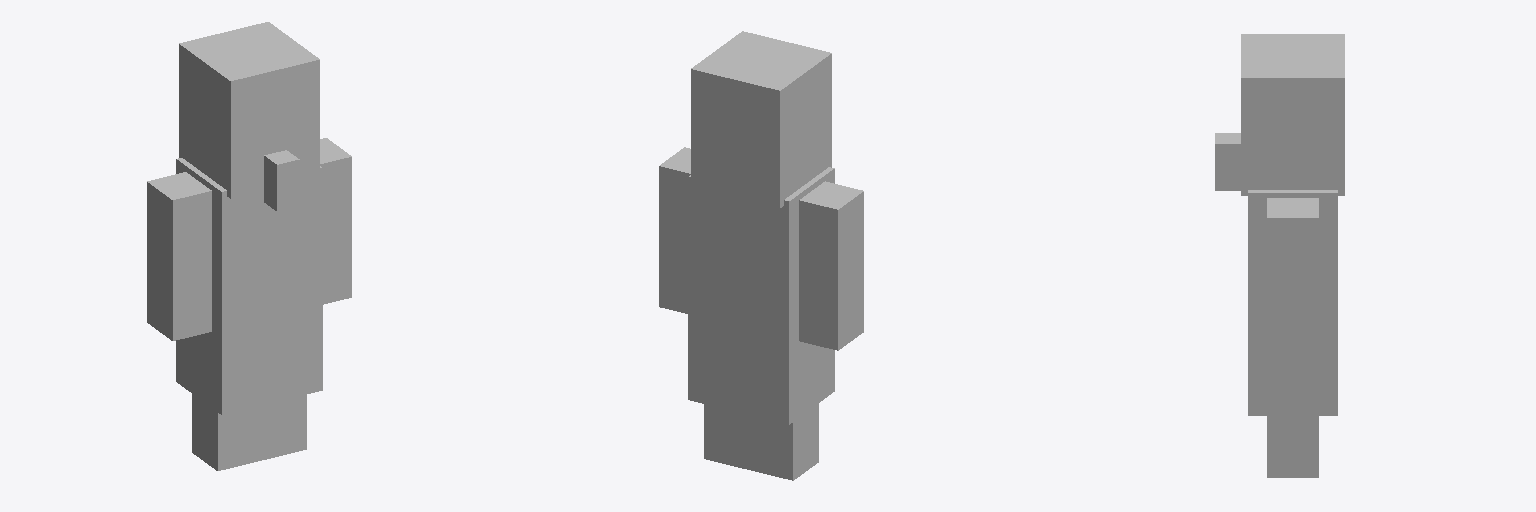
The model's file is pillager.geo.obj.
3 views of the same model, side by side, from view 1: azimuth 30°, elevation 25°; view 2: azimuth 150°, elevation 25°; view 3: azimuth 270°, elevation 25° (orthographic).
Parts seen in each view (by area): view 1: body, head, rightarm, leftarm, rightLeg, leftLeg, nose; view 2: body, head, rightarm, leftarm, rightLeg, leftLeg; view 3: head, body, leftarm, leftLeg, nose.
Boxes of the visible parts, x1=… form: body: x1=176, y1=158, x2=322, y2=414; head: x1=179, y1=22, x2=319, y2=198; rightarm: x1=147, y1=172, x2=211, y2=340; leftarm: x1=320, y1=138, x2=351, y2=304; rightLeg: x1=192, y1=394, x2=261, y2=470; leftLeg: x1=262, y1=395, x2=306, y2=459; nose: x1=264, y1=150, x2=299, y2=211; body: x1=688, y1=167, x2=834, y2=424; head: x1=691, y1=31, x2=831, y2=207; rightarm: x1=799, y1=181, x2=863, y2=350; leftarm: x1=659, y1=147, x2=690, y2=313; rightLeg: x1=749, y1=403, x2=818, y2=480; leftLeg: x1=704, y1=404, x2=748, y2=469; head: x1=1241, y1=34, x2=1344, y2=195; body: x1=1248, y1=190, x2=1337, y2=415; leftarm: x1=1267, y1=198, x2=1318, y2=358; leftLeg: x1=1267, y1=416, x2=1318, y2=477; nose: x1=1215, y1=133, x2=1240, y2=190.
Bounding box in the file's own units: 1 × 2.12 × 0.625.